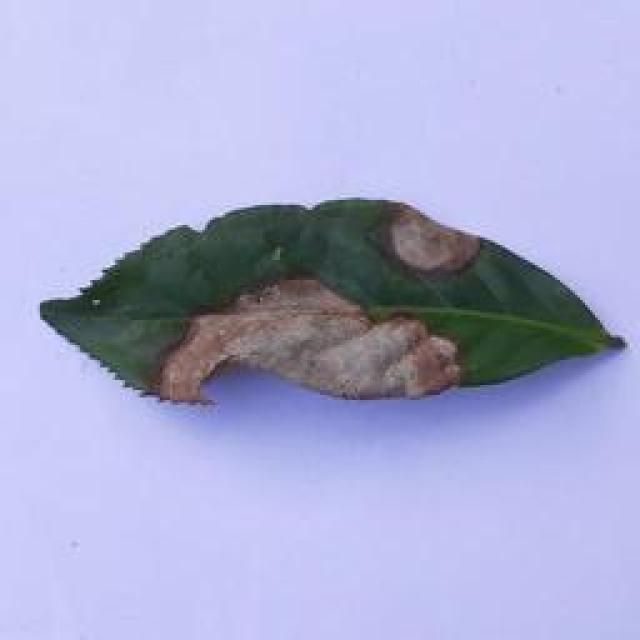Gray Blight: (45, 193, 628, 411)
